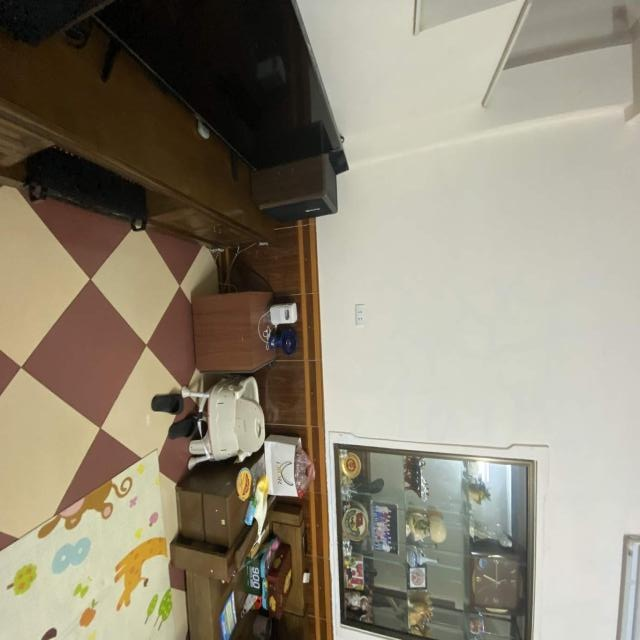outlet: (355, 304, 366, 327)
